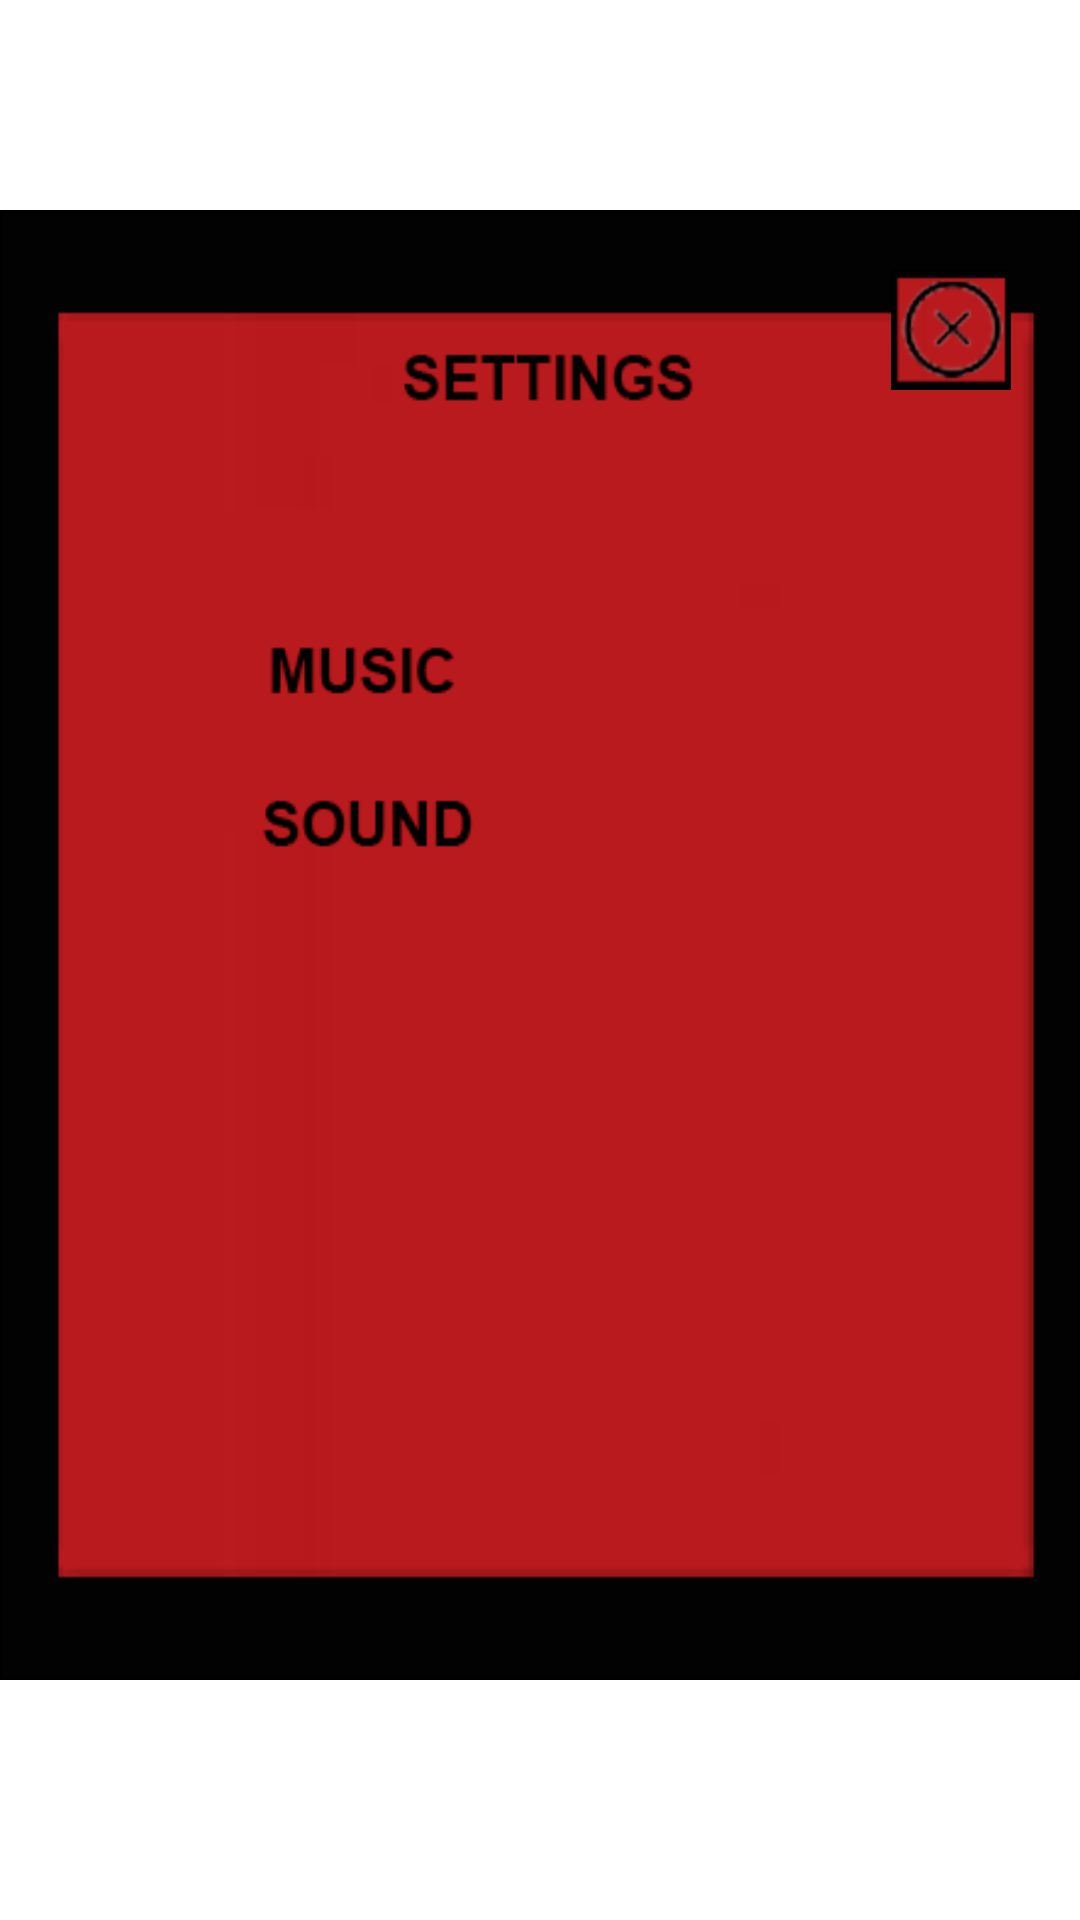

Screen size 1080×1920. Icon name, then its center in pixels as [x,y]:
close: [951,330]
